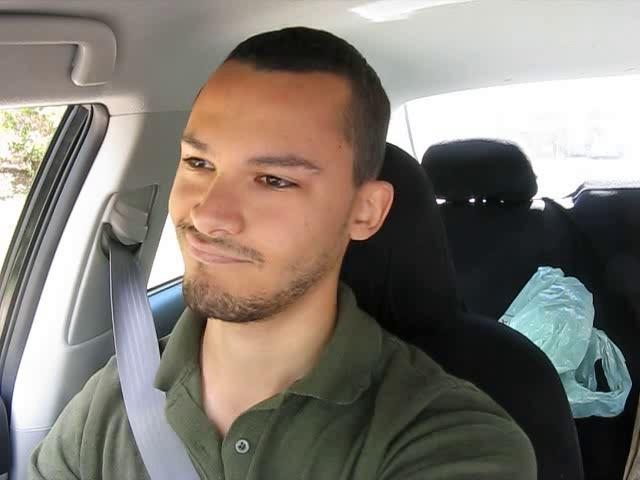no_yawn: (169, 236, 268, 280)
open_eyeL: (171, 147, 226, 185)
open_eyeR: (241, 159, 315, 202)
